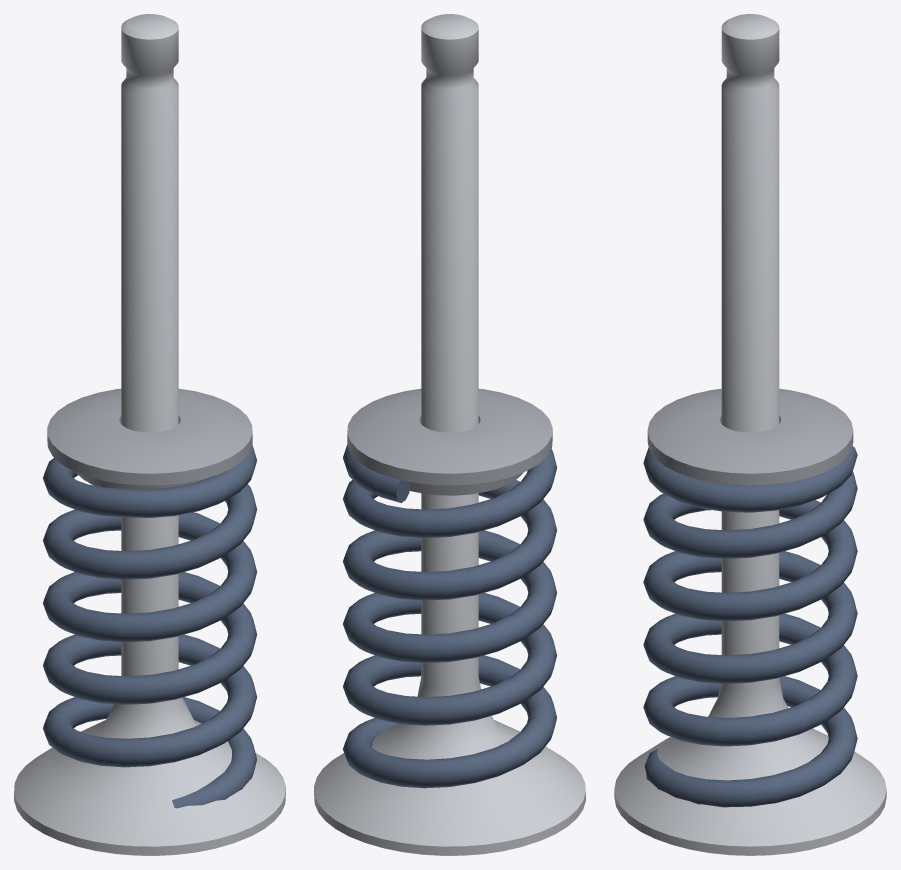
The model's file is val_valve_intake_stock.glb.
3 views of the same model, side by side, from view 1: azimuth 30°, elevation 25°; view 2: azimuth 150°, elevation 25°; view 3: azimuth 270°, elevation 25° (orthographic).
Visible parts, largest first — view 1: val_spring_intake_stock, val_valve_intake_stock; view 2: val_spring_intake_stock, val_valve_intake_stock; view 3: val_spring_intake_stock, val_valve_intake_stock.
Part boxes in pixels (x1=…): val_spring_intake_stock: x1=43, y1=388, x2=256, y2=808; val_valve_intake_stock: x1=14, y1=14, x2=285, y2=855; val_spring_intake_stock: x1=343, y1=388, x2=557, y2=788; val_valve_intake_stock: x1=314, y1=14, x2=585, y2=855; val_spring_intake_stock: x1=643, y1=388, x2=857, y2=807; val_valve_intake_stock: x1=614, y1=14, x2=886, y2=855.
Size of the model in its own units: 0.033 by 0.104 by 0.033.
